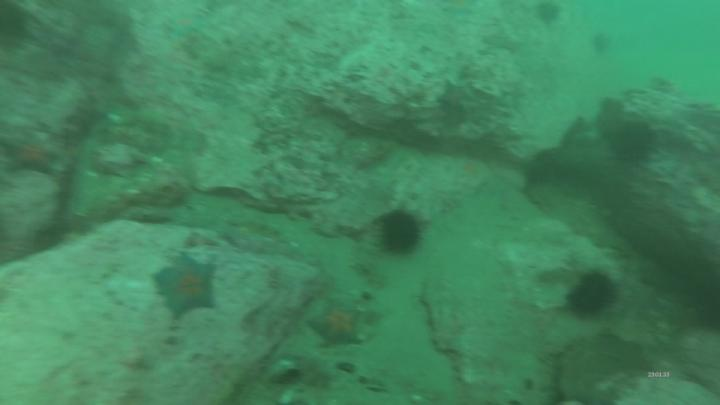echinus: (574, 274, 613, 317), (382, 213, 422, 254), (613, 125, 651, 161), (540, 2, 561, 20)
starfish: (156, 256, 218, 318), (312, 306, 361, 349), (9, 139, 59, 173)
